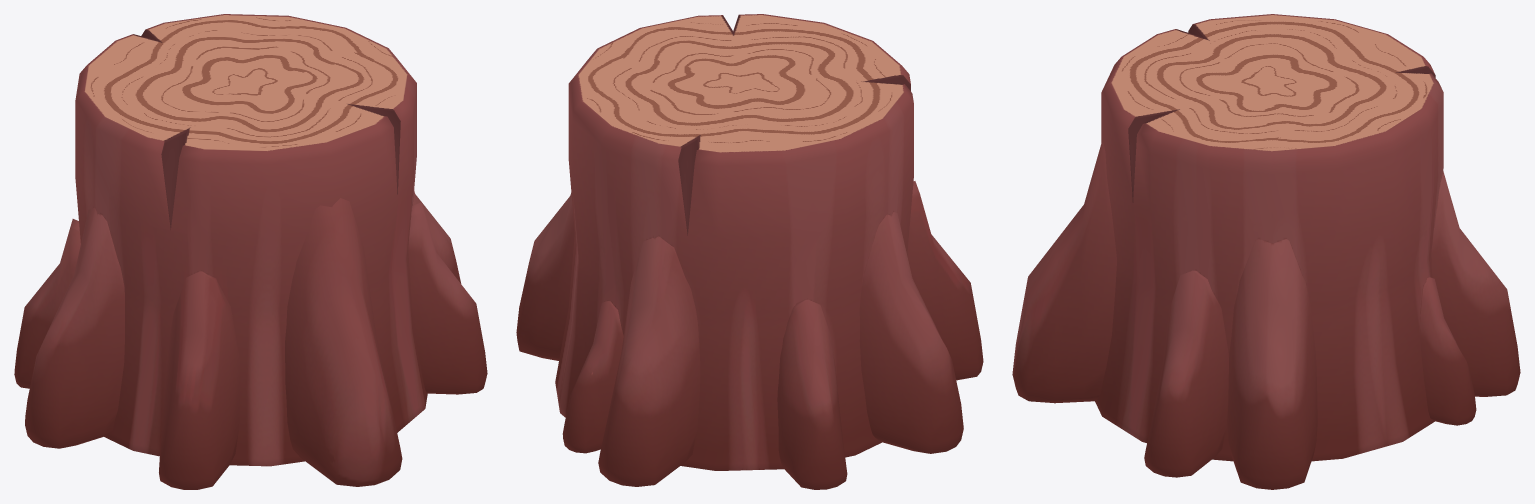
File: stump.glb
3 renders of one model, left to right at view 1: azimuth 30°, elevation 25°; view 2: azimuth 150°, elevation 25°; view 3: azimuth 270°, elevation 25°, orthographic.
Visible parts, largest first — view 1: stump; view 2: stump; view 3: stump.
Boxes of the visible parts, bbox=[...] form: stump: bbox=[14, 14, 487, 489]; stump: bbox=[516, 14, 983, 489]; stump: bbox=[1012, 14, 1520, 489].
Bounding box in the file's own units: 10.09 × 6.99 × 10.35.
Materials: 1 (1 with a texture image).
